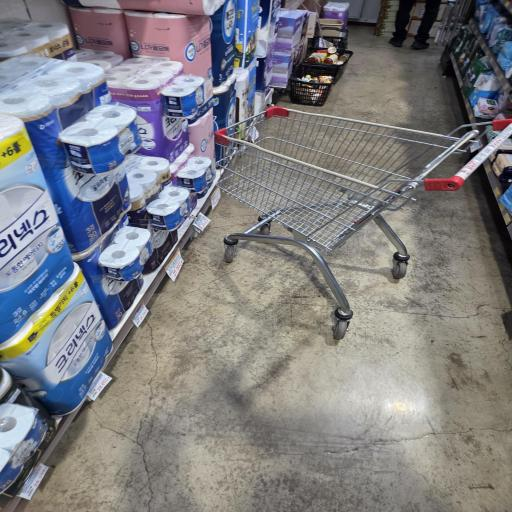empty_cart: (219, 104, 512, 328)
